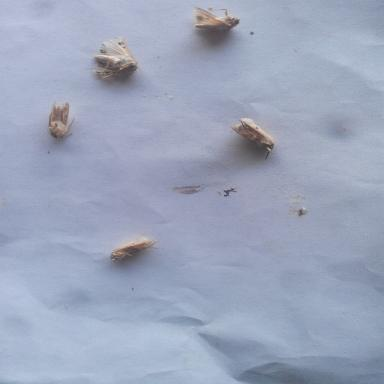abw: (82, 31, 143, 83), (228, 116, 276, 162), (98, 232, 162, 265), (182, 2, 246, 34), (41, 98, 77, 142)
